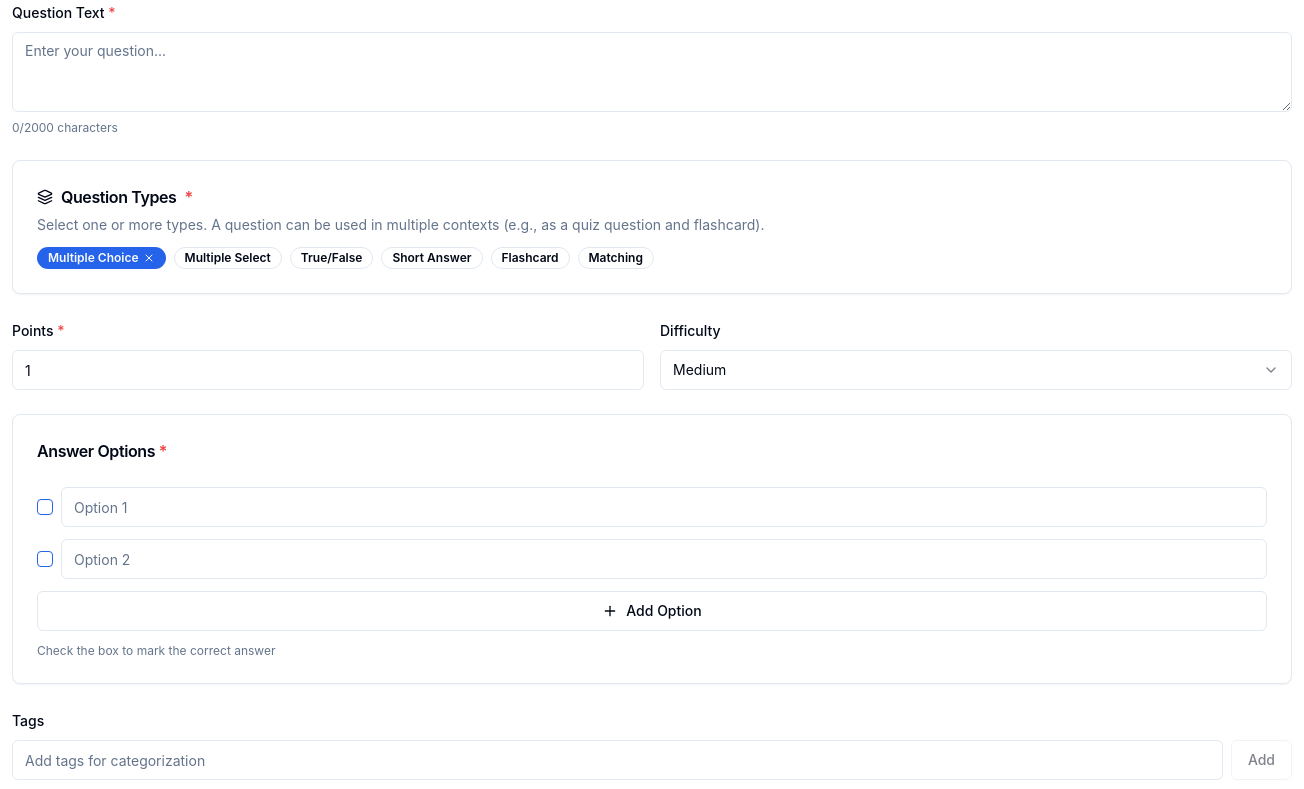
Test: QuestionForm › Multiple Choice Options › should allow adding new option
The width and height of the screenshot is (1304, 789).
Click the button "Add Option". click: click(652, 611)
box: [37, 591, 1267, 631]
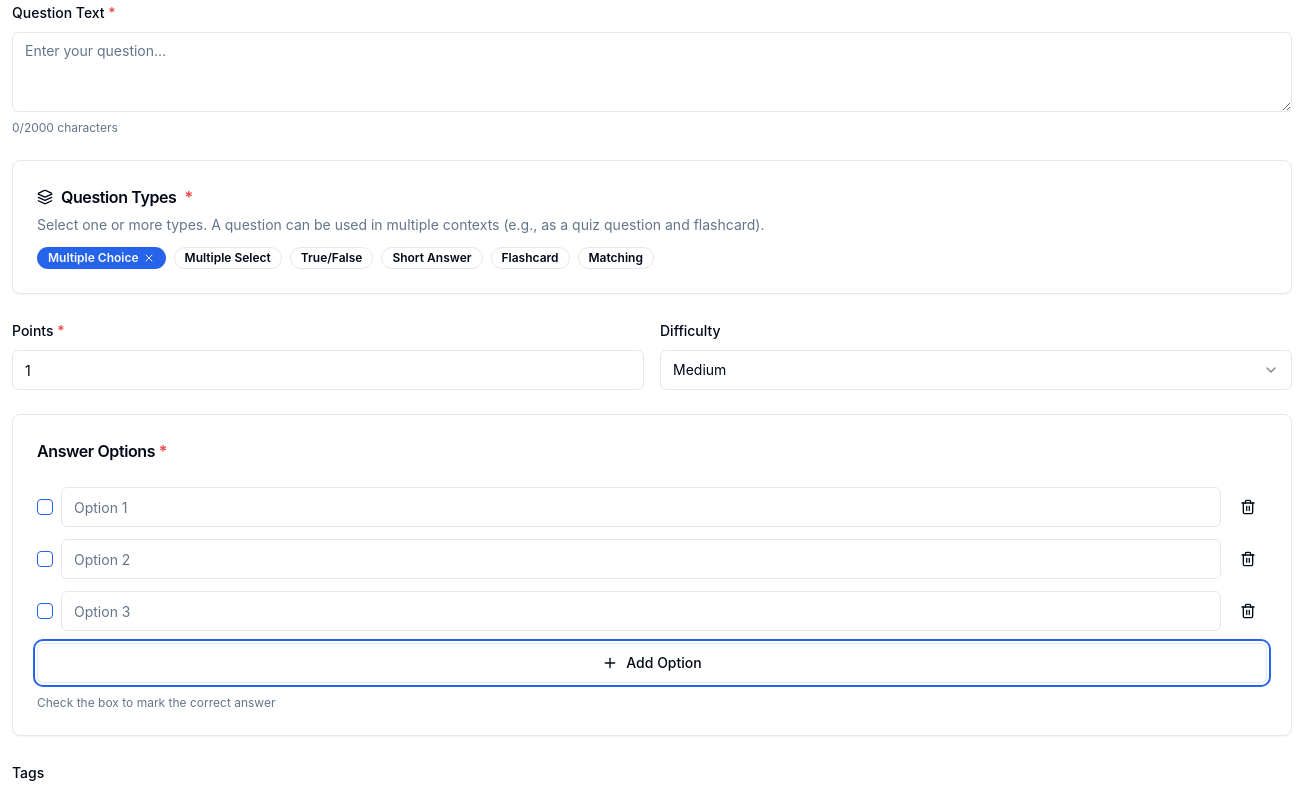
Now the number of fields with placeholder "Option 1" is 3, box [61, 487, 1221, 527]; [61, 539, 1221, 579]; [61, 591, 1221, 631]
